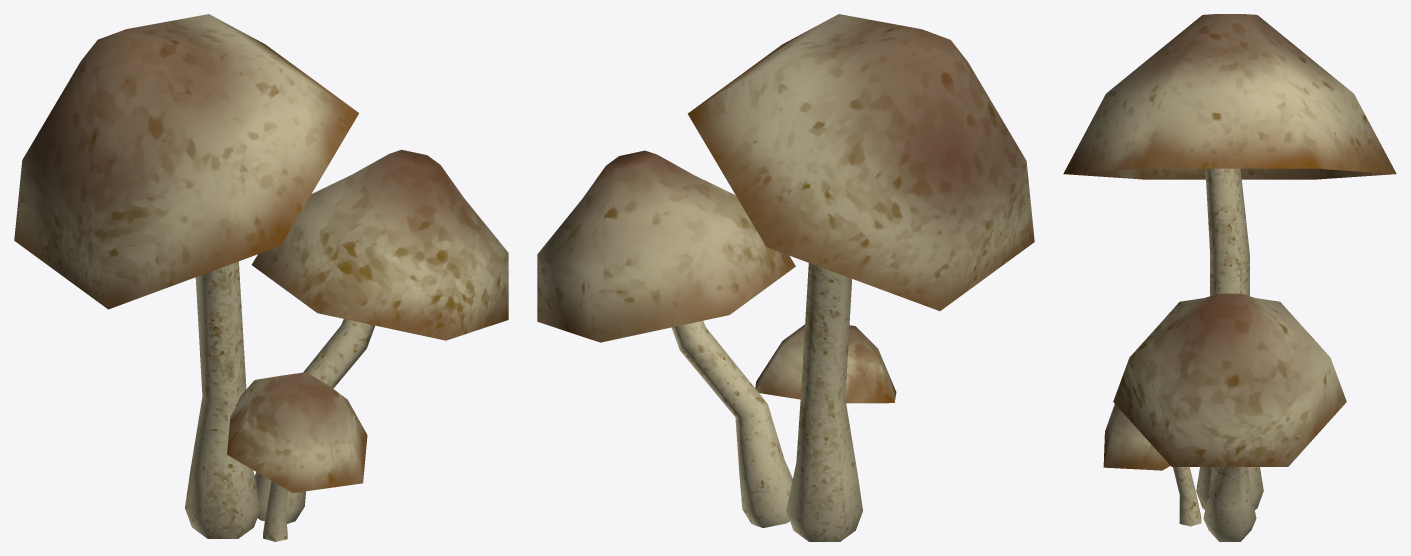
File: art_3D model_Environment_Coprinellus 22.fbx
3 views of the same model, side by side, from view 1: azimuth 30°, elevation 25°; view 2: azimuth 150°, elevation 25°; view 3: azimuth 270°, elevation 25° (orthographic). The views are drawn at different scales.
Visible parts, largest first — view 1: Jamur coprinellus; view 2: Jamur coprinellus; view 3: Jamur coprinellus.
Part boxes in pixels (x1,y1,x2,y2): Jamur coprinellus: (14,14,508,541); Jamur coprinellus: (537,14,1034,541); Jamur coprinellus: (1063,14,1396,541).
Bounding box in the file's own units: 17.85 × 20.95 × 13.75.
1 material, 1 textured.
